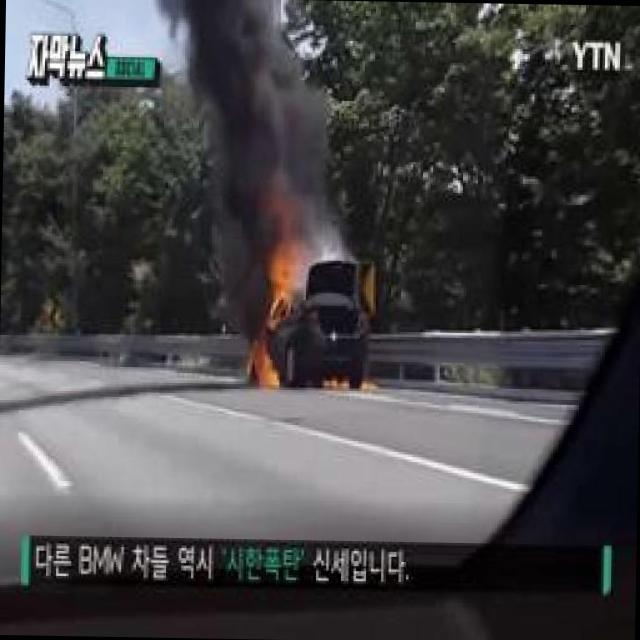Fire: (249, 338, 285, 386), (267, 257, 300, 305)
Smoke: (155, 0, 341, 202)
